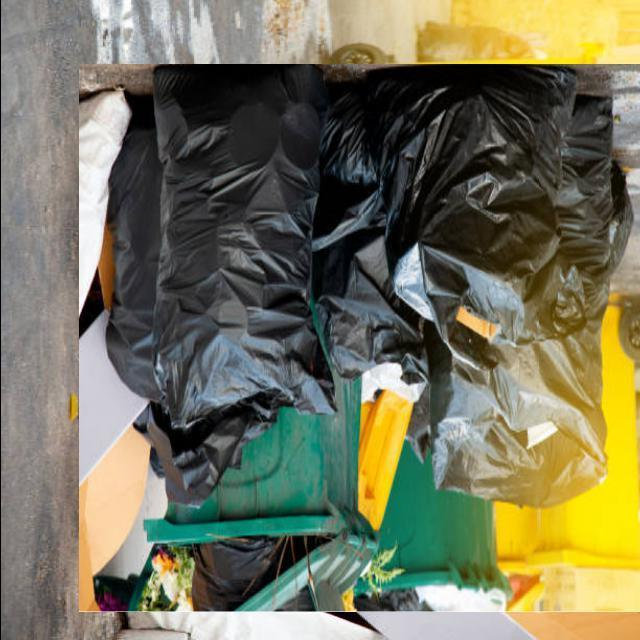Trashbag: (152, 83, 341, 460), (372, 77, 560, 324), (424, 326, 624, 517), (85, 112, 168, 412), (568, 87, 634, 325)
